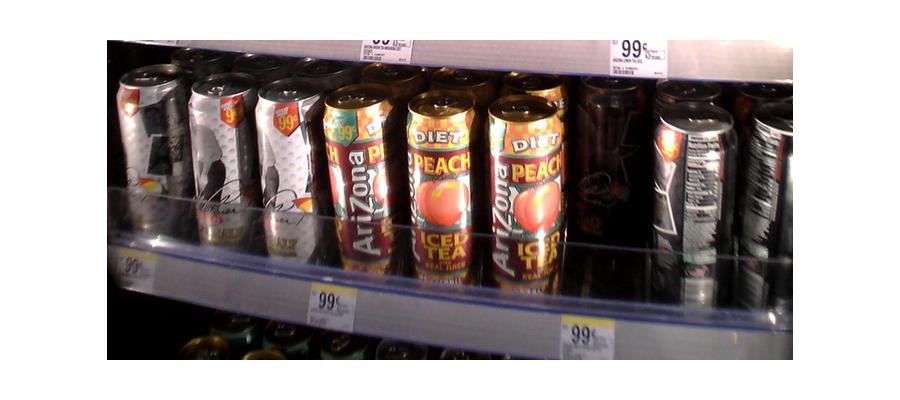bottle: (652, 85, 734, 312), (487, 94, 562, 294), (323, 84, 397, 279), (405, 87, 477, 283), (574, 80, 641, 274), (254, 81, 321, 268), (119, 65, 186, 242), (188, 76, 252, 254), (744, 108, 792, 320)
